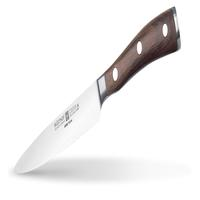knife: (10, 14, 178, 175)
